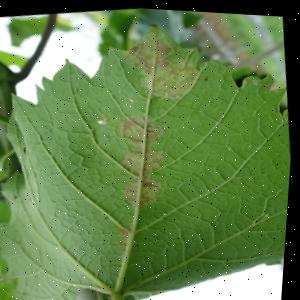Folha: (0, 0, 300, 300)
Fungo: (116, 16, 205, 105), (110, 109, 175, 211), (114, 109, 167, 149), (120, 171, 167, 210), (119, 144, 168, 178), (117, 226, 134, 256), (280, 253, 287, 273), (128, 97, 134, 102), (265, 210, 271, 215), (203, 73, 208, 79)
